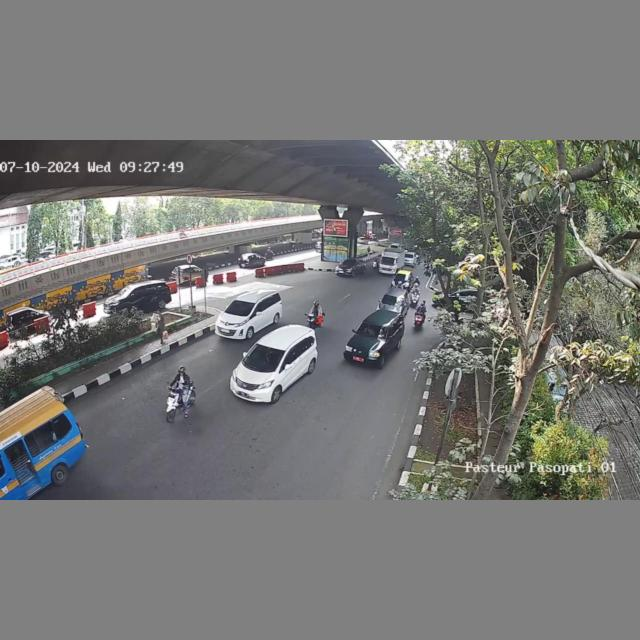windshield: (241, 343, 285, 370), (355, 321, 388, 340), (223, 299, 255, 316), (382, 294, 403, 308)
